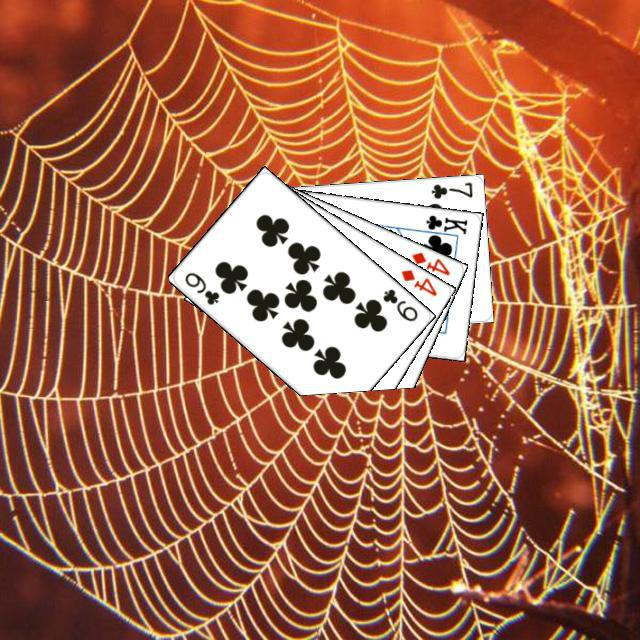4d: (396, 264, 439, 298), (407, 247, 452, 277)
7c: (426, 177, 474, 200)
9c: (180, 267, 221, 307), (378, 284, 420, 323)
Kc: (415, 210, 469, 239)
